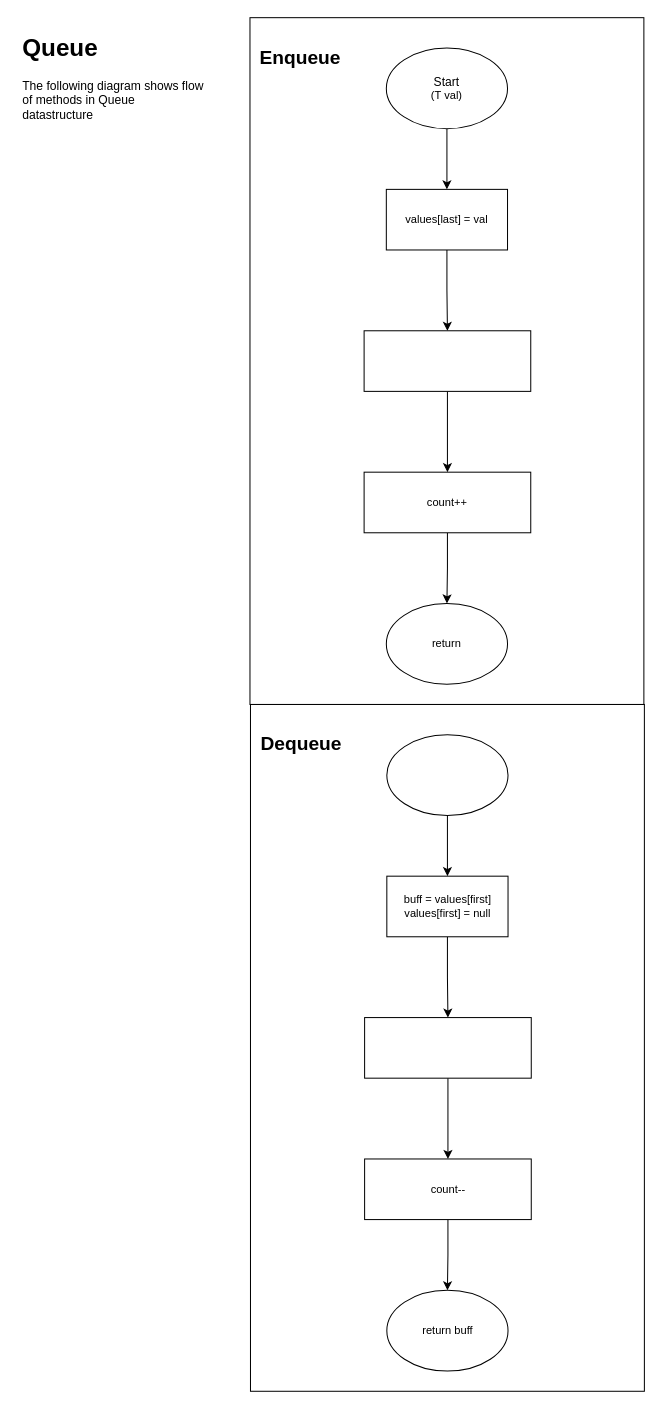
The diagram is 662 pixels wide and 1409 high, and some of its shapes have lost their labels. Here are the shapes that lost their labels. From the top down, the box of each, then its label:
(363, 330, 531, 391): last = (last+1) mod queue_capacity
(386, 734, 508, 816): Start
(364, 1017, 531, 1078): first = (first + 1) mod queue_capacity
